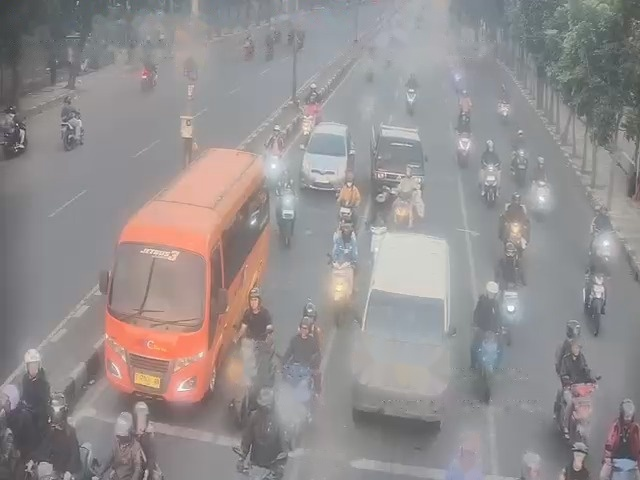Bis: (110, 153, 263, 399)
Mobil: (364, 234, 447, 374), (366, 122, 422, 188), (305, 118, 353, 189), (0, 123, 26, 158)
Motor: (232, 434, 281, 480), (275, 365, 304, 429), (568, 379, 600, 436), (474, 328, 499, 398), (232, 337, 252, 405), (587, 270, 608, 324), (503, 286, 525, 334), (333, 260, 353, 306), (601, 458, 639, 480), (279, 194, 294, 245), (482, 164, 500, 203), (48, 394, 67, 430), (596, 231, 614, 267), (510, 223, 526, 261), (534, 182, 550, 211), (369, 220, 382, 253), (266, 146, 281, 174), (58, 122, 73, 145), (512, 151, 528, 171), (458, 133, 470, 159), (404, 91, 418, 113), (398, 198, 408, 224), (501, 101, 513, 122), (338, 202, 349, 221), (460, 111, 471, 129)
